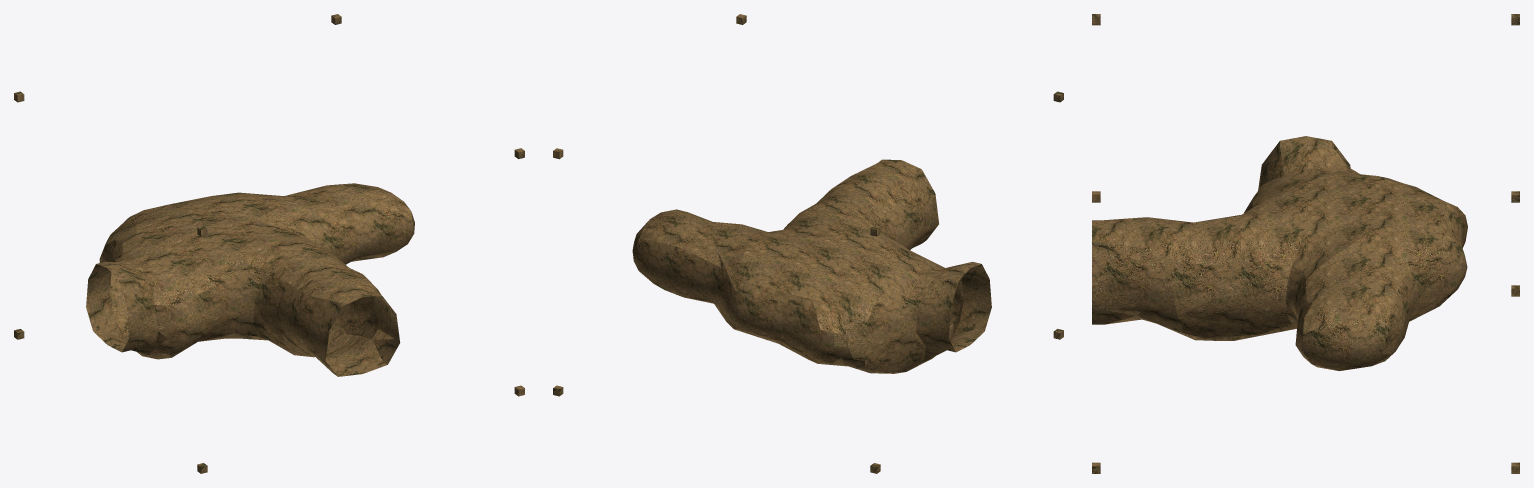
Rendered from lba_2f.glb.
3 views of the same model, side by side, from view 1: azimuth 30°, elevation 25°; view 2: azimuth 150°, elevation 25°; view 3: azimuth 270°, elevation 25° (orthographic). The views are drawn at different scales.
Visible parts, largest first — view 1: lba_2f; view 2: lba_2f; view 3: lba_2f.
Boxes of the visible parts, x1,y1,x2,y2 form: lba_2f: [14, 14, 524, 473]; lba_2f: [553, 14, 1063, 473]; lba_2f: [1092, 14, 1519, 473].
Size of the model in its own units: 15 by 10.8 by 15.
Materials: 1 (1 with a texture image).
